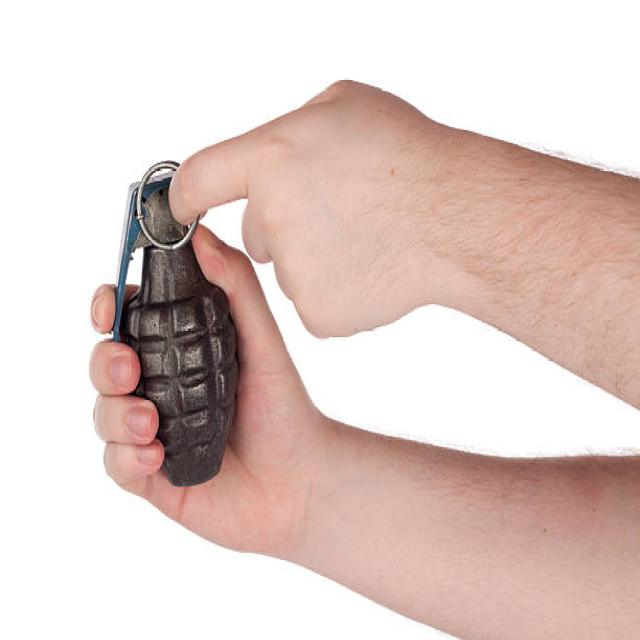grenade: (106, 156, 244, 492)
